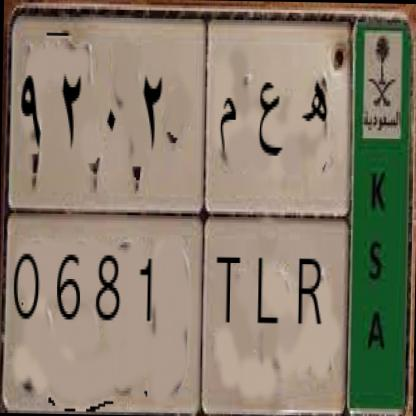english: (0, 198, 356, 416)
